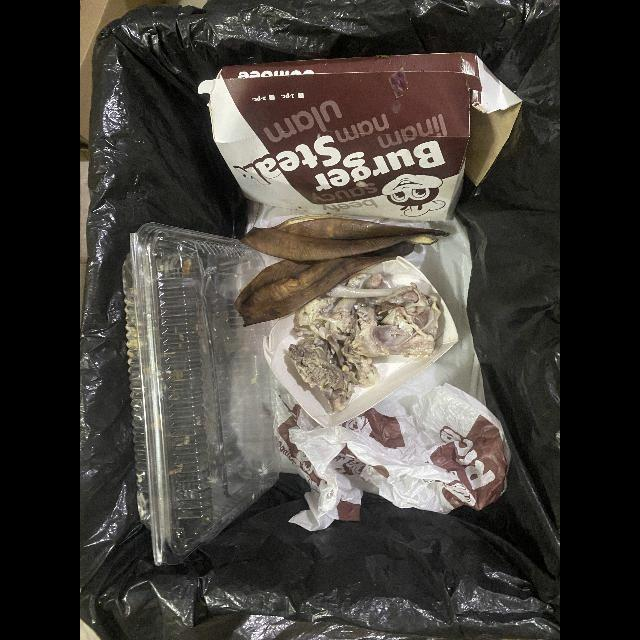cardboard: (195, 53, 522, 228), (263, 257, 459, 432)
left_over_food: (289, 273, 441, 413)
paper: (273, 380, 510, 532)
plastic_container: (122, 224, 280, 568)
